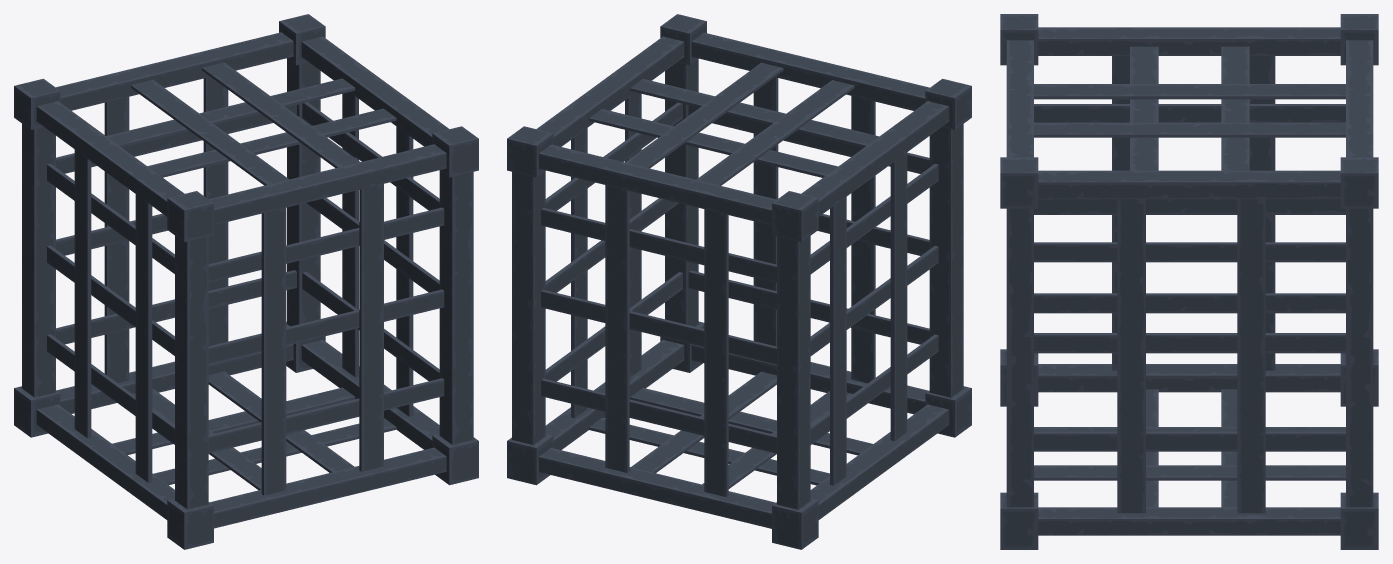
File: CageSmall1.fbx
3 renders of one model, left to right at view 1: azimuth 30°, elevation 25°; view 2: azimuth 150°, elevation 25°; view 3: azimuth 270°, elevation 25°, orthographic. The views are drawn at different scales.
Visible parts, largest first — view 1: CageSmall1; view 2: CageSmall1; view 3: CageSmall1.
Boxes of the visible parts, left/top/right/bottom form: CageSmall1: left=14, top=14, right=478, bottom=549; CageSmall1: left=507, top=14, right=971, bottom=549; CageSmall1: left=1000, top=14, right=1378, bottom=549.
Bounding box in the file's own units: 240 × 264 × 240.
